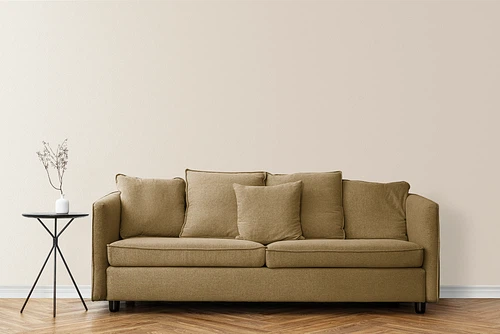flower vase: (34, 135, 72, 214)
side table: (17, 212, 91, 318)
sofa: (88, 165, 441, 316)
